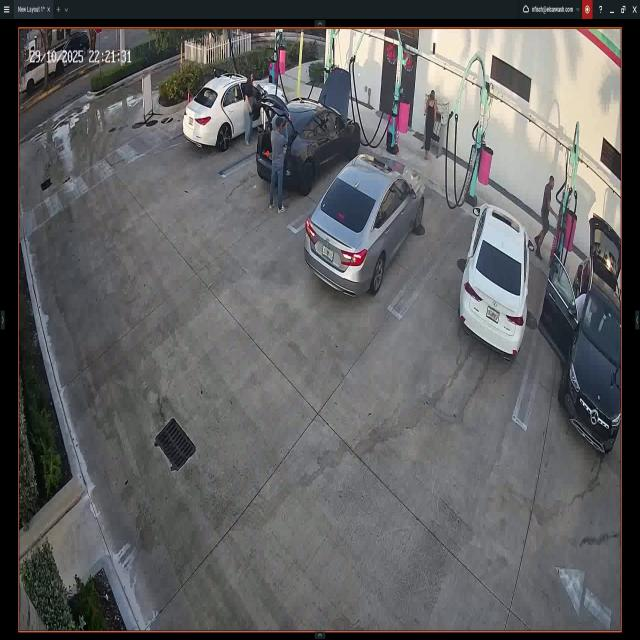Car: (548, 206, 622, 454), (305, 152, 424, 298), (255, 66, 360, 191), (458, 201, 529, 363), (184, 70, 286, 148)
